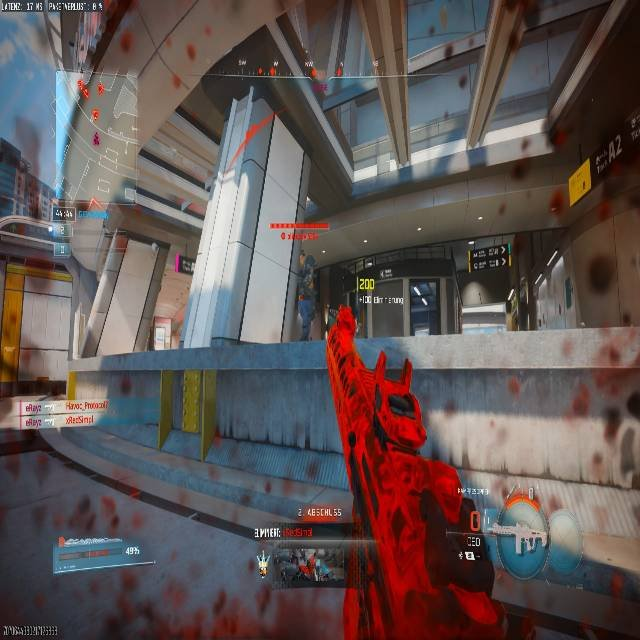head: (336, 304, 352, 321)
player: (325, 303, 358, 391), (293, 250, 320, 339)
